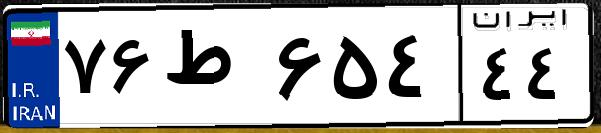4: (385, 28, 445, 110), (475, 38, 525, 113), (525, 38, 570, 115)
5: (330, 28, 385, 110)
6: (270, 28, 330, 110), (110, 28, 158, 98)
7: (57, 26, 110, 100)
ط: (158, 20, 270, 120)
